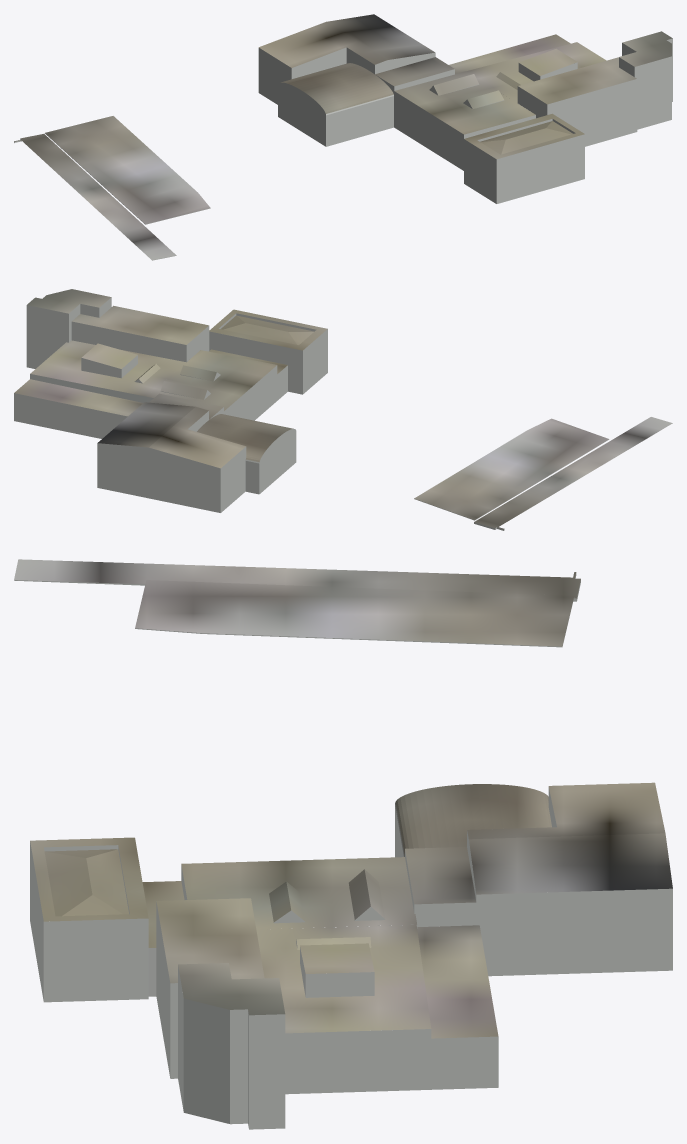
File: LSZH_4_-1.glb
3 views of the same model, one above another, from view 1: azimuth 30°, elevation 25°; view 2: azimuth 150°, elevation 25°; view 3: azimuth 270°, elevation 25° (orthographic). The views are drawn at different scales.
Visible parts, largest first — view 1: building_2f16918ed8690dd2, building_af2ec46f0a558cff; view 2: building_2f16918ed8690dd2, building_af2ec46f0a558cff; view 3: building_2f16918ed8690dd2, building_af2ec46f0a558cff.
Boxes of the visible parts, x1,y1,x2,y2 form: building_2f16918ed8690dd2: (14, 14, 672, 260); building_af2ec46f0a558cff: (14, 38, 672, 260); building_2f16918ed8690dd2: (14, 289, 672, 528); building_af2ec46f0a558cff: (14, 297, 608, 530); building_2f16918ed8690dd2: (14, 559, 672, 1038); building_af2ec46f0a558cff: (14, 573, 672, 1129).
Bounding box in the file's own units: 147 × 15.27 × 79.78.
2 materials, 1 textured.
